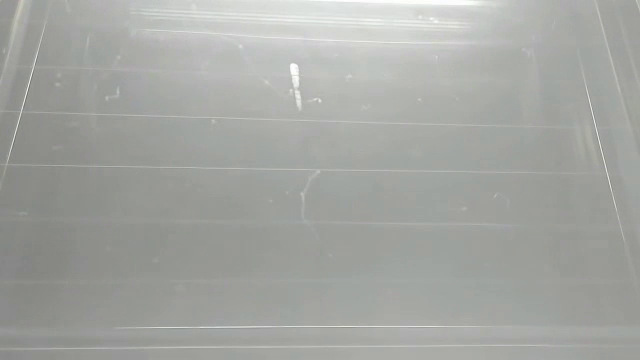alpha: (285, 58, 308, 115)
